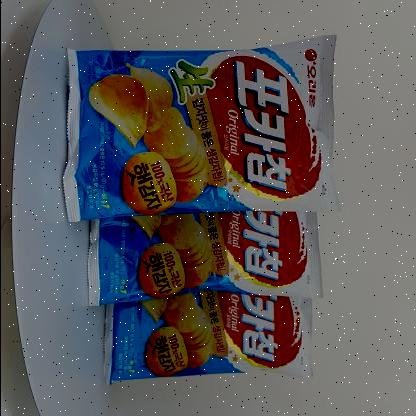Others: (40, 30, 356, 404)
